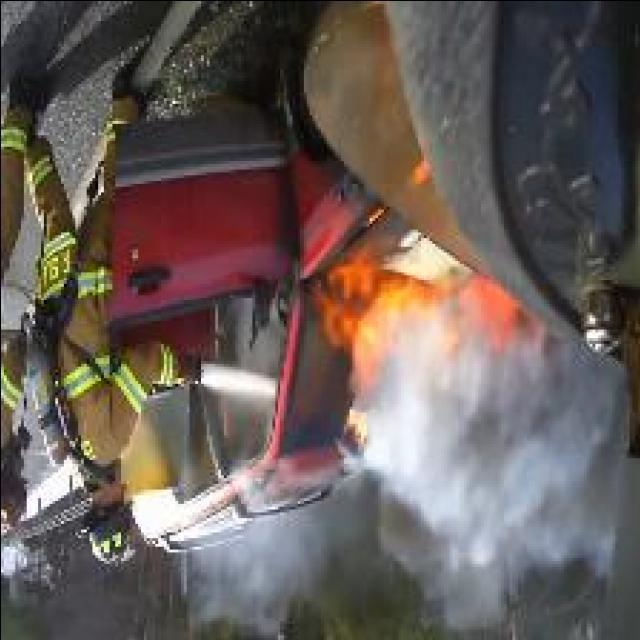Fire: (313, 250, 521, 384)
